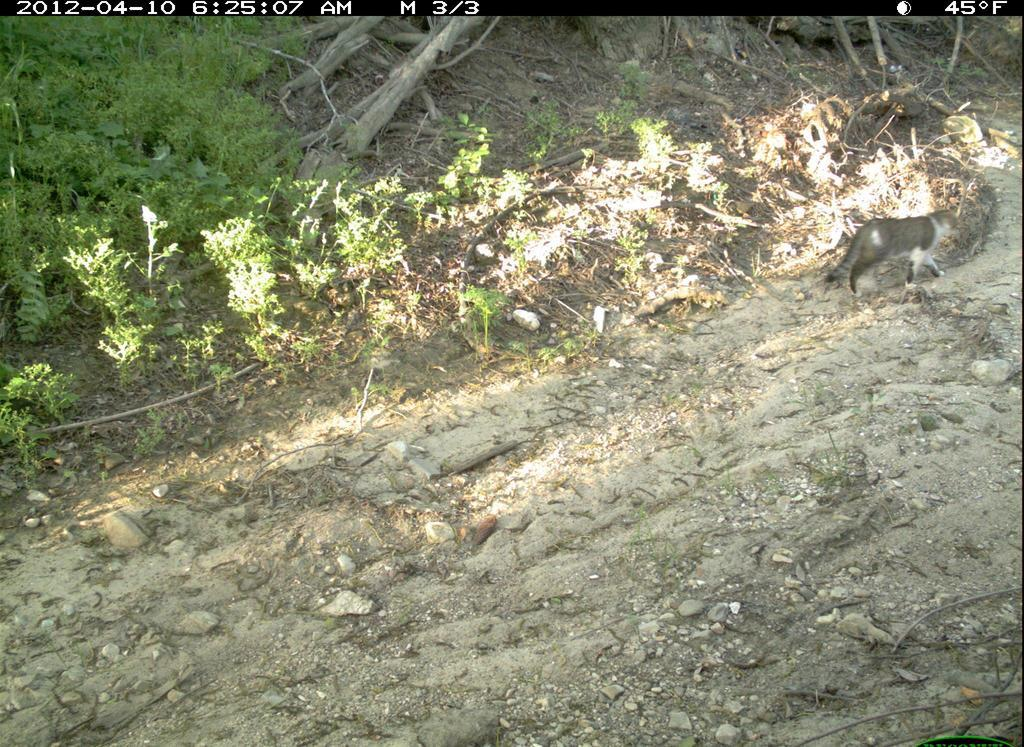cat: (827, 208, 967, 301)
